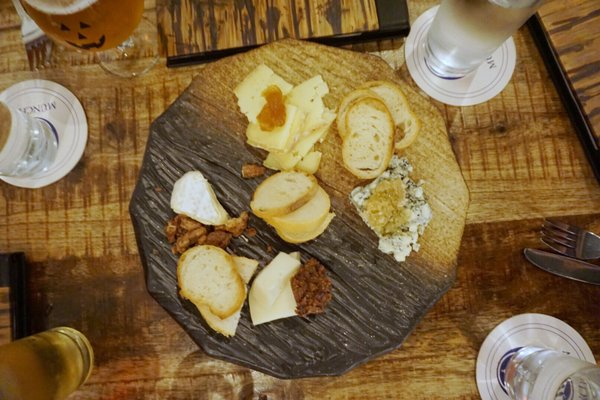pasta: (176, 243, 249, 339), (250, 169, 333, 243)
pizza: (403, 0, 540, 108), (475, 312, 599, 396), (423, 0, 542, 78)
steak: (249, 251, 301, 326)
